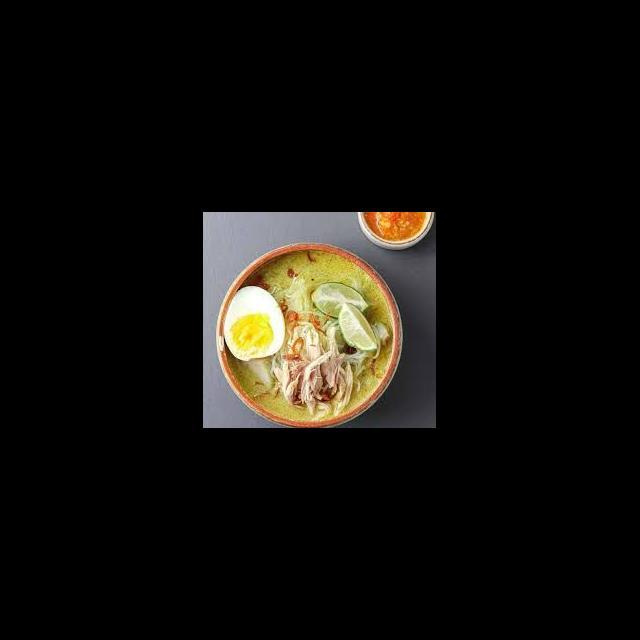Soto: (216, 241, 402, 427)
